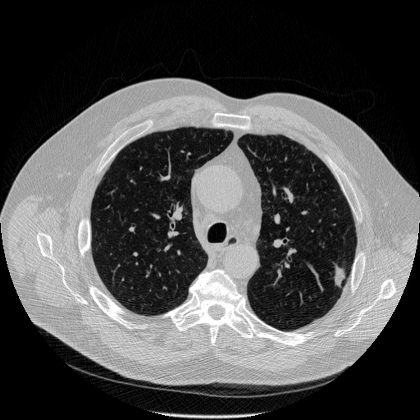nodule: (332, 272, 344, 284)
